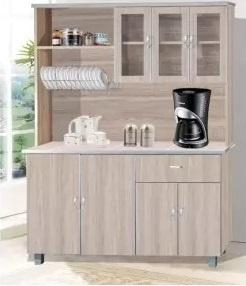cabinet_door: (81, 158, 135, 254), (45, 158, 79, 258), (136, 183, 177, 254), (180, 183, 221, 254), (139, 158, 221, 182)
handle: (169, 163, 184, 173), (72, 195, 78, 208), (171, 206, 177, 219), (81, 195, 87, 207), (178, 206, 184, 218)
